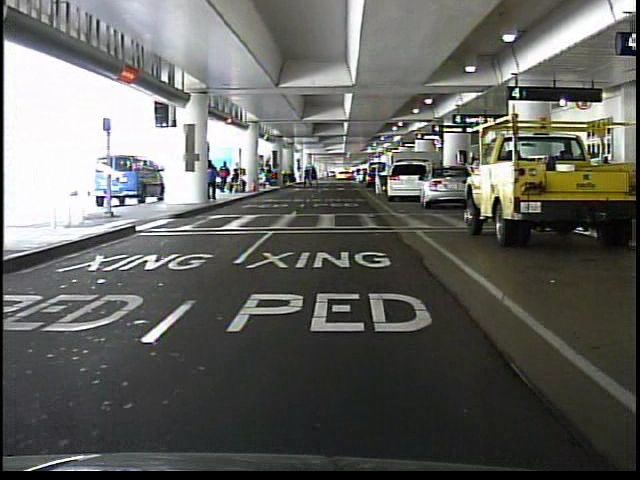person: (204, 156, 221, 204)
